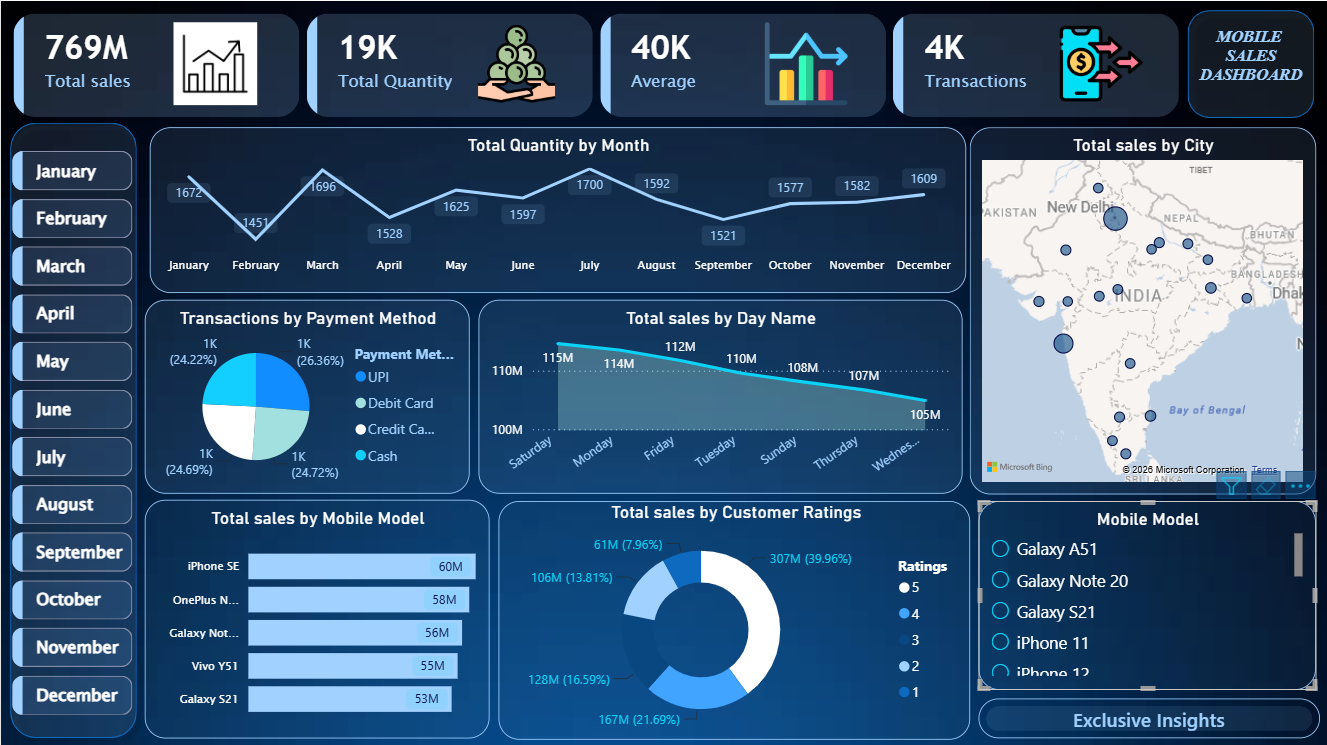

What the dashboard file says about the page in this screenshot:
{"tool":"powerbi","page":{"name":"Dashboard","canvas":[1280,720],"ordinal":0},"visuals":[{"type":"shape","box":[1136.5,0,139.9,121.9],"z":0},{"type":"shape","box":[0,108.6,139.9,611.7],"z":1000},{"type":"advancedSlicerVisual","fields":{"Values":["Sales_data.Date.Variation.Date Hierarchy.Month"]},"box":[6,139.9,126.7,556.2],"z":2000},{"type":"cardVisual","fields":{"Data":["Sales_data.Total sales","Sales_data.Total Quantity","Sales_data.Average","Sales_data.Transactions"]},"box":[0,0,1150.9,139.9],"z":3000},{"type":"image","box":[457.2,20.5,80.8,79.6],"z":4000},{"type":"image","box":[737.1,20.5,79.6,79.6],"z":5000},{"type":"image","box":[1021.9,20.5,79.6,79.6],"z":6000},{"type":"map","fields":{"Size":["Sales_data.Total sales"],"Category":["Sales_data.City"]},"box":[935,121.9,334.2,354.7],"z":7000},{"type":"lineChart","fields":{"Category":["Sales_data.Date.Variation.Date Hierarchy.Month","Sales_data.Date.Variation.Date Hierarchy.Day"],"Y":["Sales_data.Total Quantity"]},"box":[143.6,122.1,787.9,160],"z":8000},{"type":"clusteredBarChart","fields":{"Category":["Sales_data.Mobile Model"],"Y":["Sales_data.Total sales"]},"box":[138.7,481.4,333,230.4],"z":9000},{"type":"pieChart","fields":{"Y":["Sales_data.Transactions"],"Category":["Sales_data.Payment Method"]},"box":[138.7,288.3,313.7,187],"z":10000},{"type":"textbox","box":[1136.5,20.5,139.9,115.8],"z":11000},{"type":"areaChart","fields":{"Y":["Sales_data.Total sales"],"Category":["Sales_data.Day Name"]},"box":[460.9,288.3,466.9,187],"z":12000},{"type":"listSlicer","fields":{"Values":["Sales_data.Mobile Model"]},"box":[943.4,482.6,325.7,182.2],"z":14000},{"type":"actionButton","box":[943.4,673.2,329.4,38.6],"z":15000},{"type":"donutChart","fields":{"Category":["Sales_data.Customer Ratings"],"Y":["Sales_data.Total sales"]},"box":[480.2,482.6,454.8,230.4],"z":16000},{"type":"image","box":[166.5,20.5,80.8,79.6],"z":17000}]}

Visuals, with their boxes in screenshot pixels (x1, y1, x2, y2), scaled from the page's 1280x720 canvas onto the 1327x745 screenshot:
shape: [left=1178, top=0, right=1323, bottom=126]
shape: [left=0, top=112, right=145, bottom=744]
advancedSlicerVisual - Sales_data.Date.Variation.Date Hierarchy.Month: [left=6, top=145, right=138, bottom=720]
cardVisual - Sales_data.Total sales x Sales_data.Total Quantity: [left=0, top=0, right=1193, bottom=145]
image: [left=474, top=21, right=558, bottom=104]
image: [left=764, top=21, right=847, bottom=104]
image: [left=1059, top=21, right=1142, bottom=104]
map - Sales_data.Total sales x Sales_data.City: [left=969, top=126, right=1316, bottom=493]
lineChart - Sales_data.Date.Variation.Date Hierarchy.Month x Sales_data.Date.Variation.Date Hierarchy.Day: [left=149, top=126, right=966, bottom=292]
clusteredBarChart - Sales_data.Mobile Model x Sales_data.Total sales: [left=144, top=498, right=489, bottom=737]
pieChart - Sales_data.Transactions x Sales_data.Payment Method: [left=144, top=298, right=469, bottom=492]
textbox: [left=1178, top=21, right=1323, bottom=141]
areaChart - Sales_data.Total sales x Sales_data.Day Name: [left=478, top=298, right=962, bottom=492]
listSlicer - Sales_data.Mobile Model: [left=978, top=499, right=1316, bottom=688]
actionButton: [left=978, top=697, right=1320, bottom=737]
donutChart - Sales_data.Customer Ratings x Sales_data.Total sales: [left=498, top=499, right=969, bottom=738]
image: [left=173, top=21, right=256, bottom=104]
